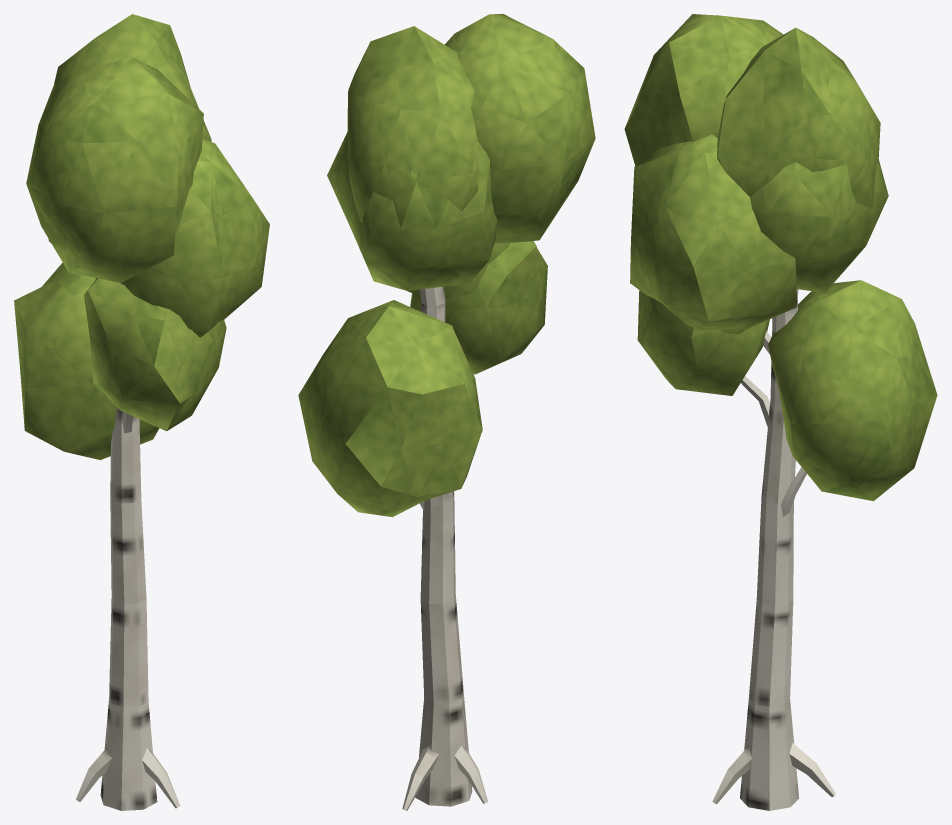
File: SM_Tree_Birch_Medium01.fbx
The picture shows the model from 3 angles, left to right: view 1: azimuth 30°, elevation 25°; view 2: azimuth 150°, elevation 25°; view 3: azimuth 270°, elevation 25°; orthographic projection.
Parts seen in each view (by area): view 1: SM_Tree_Birch_Medium01; view 2: SM_Tree_Birch_Medium01; view 3: SM_Tree_Birch_Medium01.
Boxes of the visible parts, left/top/right/bottom form: SM_Tree_Birch_Medium01: left=14, top=14, right=269, bottom=810; SM_Tree_Birch_Medium01: left=298, top=14, right=595, bottom=810; SM_Tree_Birch_Medium01: left=624, top=14, right=937, bottom=810.
Size of the model in its own units: 5.28 by 18.12 by 6.6.
Materials: 1 (1 with a texture image).
